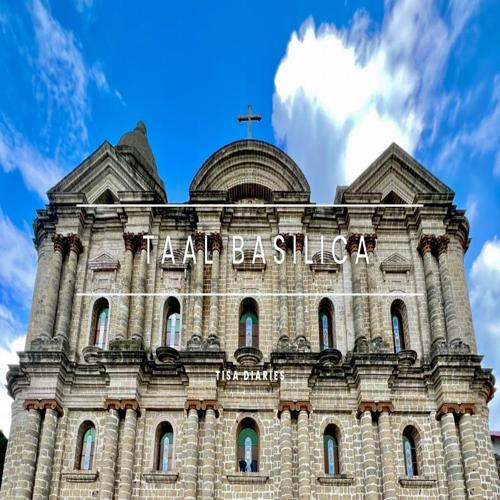Taal Basilica Church: (12, 92, 499, 500)
